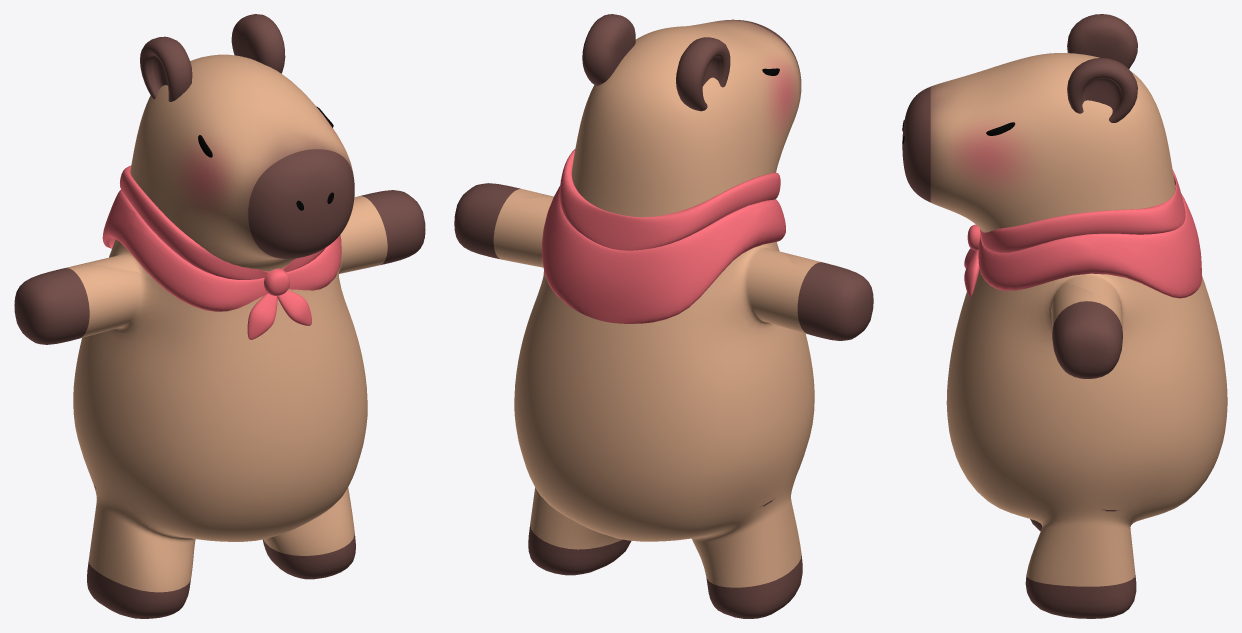
The model's file is Capybara.fbx.
The picture shows the model from 3 angles, left to right: view 1: azimuth 30°, elevation 25°; view 2: azimuth 150°, elevation 25°; view 3: azimuth 270°, elevation 25°; orthographic projection. The views are drawn at different scales.
Parts seen in each view (by area): view 1: Corpo, Cube.002, Orelhas; view 2: Corpo, Cube.002, Orelhas; view 3: Corpo, Cube.002, Orelhas.
Boxes of the visible parts, <box> form: Corpo: <box>14,54,425,618</box>; Cube.002: <box>102,165,341,339</box>; Orelhas: <box>140,14,285,101</box>; Corpo: <box>454,19,873,618</box>; Cube.002: <box>541,149,785,323</box>; Orelhas: <box>582,14,730,111</box>; Corpo: <box>902,53,1227,618</box>; Cube.002: <box>964,170,1201,298</box>; Orelhas: <box>1067,14,1137,122</box>.
Bounding box in the file's own units: 140 × 187 × 103.
Materials: 4 (1 with a texture image).
